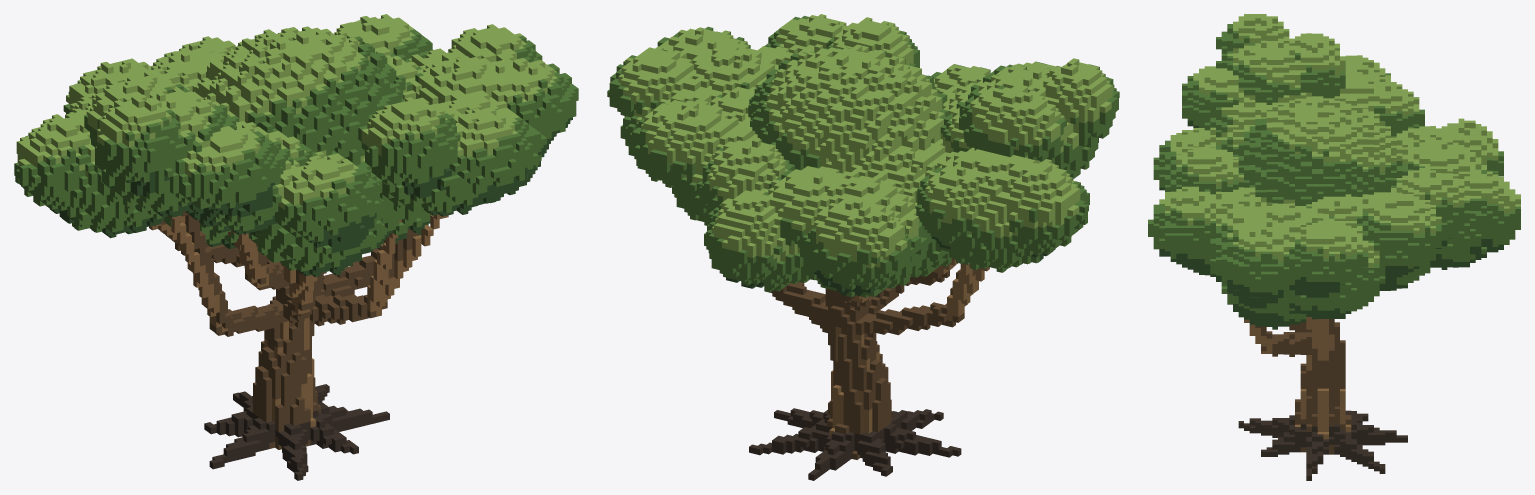
Rendered from ancient_oak_v2_near.glb.
3 renders of one model, left to right at view 1: azimuth 30°, elevation 25°; view 2: azimuth 150°, elevation 25°; view 3: azimuth 270°, elevation 25°, orthographic. The views are drawn at different scales.
Parts seen in each view (by area): view 1: ancient_oak_v2_near; view 2: ancient_oak_v2_near; view 3: ancient_oak_v2_near.
Boxes of the visible parts, x1=… form: ancient_oak_v2_near: x1=14, y1=14, x2=578, y2=480; ancient_oak_v2_near: x1=607, y1=14, x2=1119, y2=480; ancient_oak_v2_near: x1=1148, y1=14, x2=1520, y2=480.
Size of the model in its own units: 10.88 by 8.5 by 8.25.
1 material, 1 textured.
